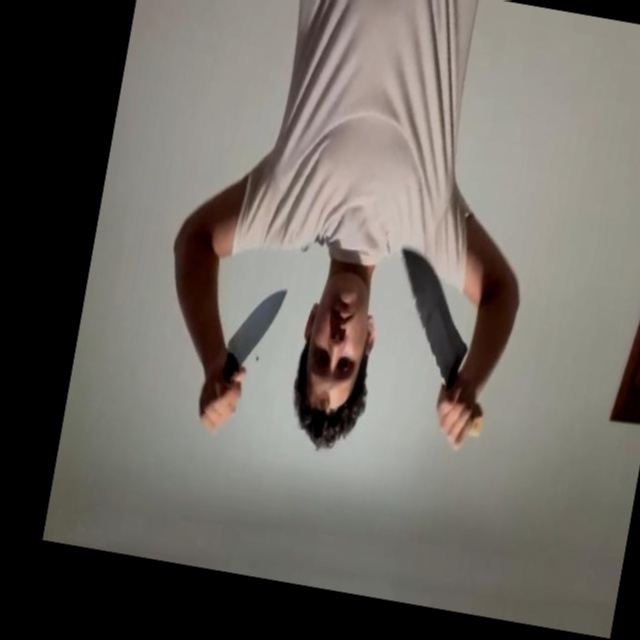Sharp-Object: (382, 248, 482, 386), (225, 285, 286, 371)
